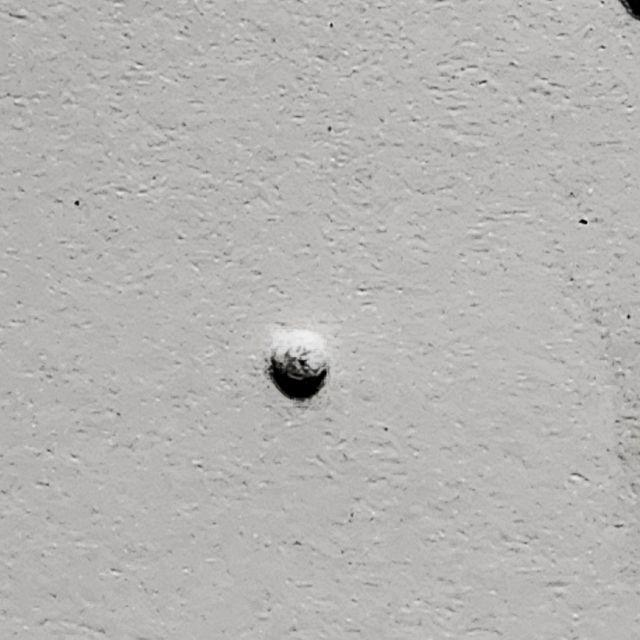capital: (166, 150, 329, 393)
